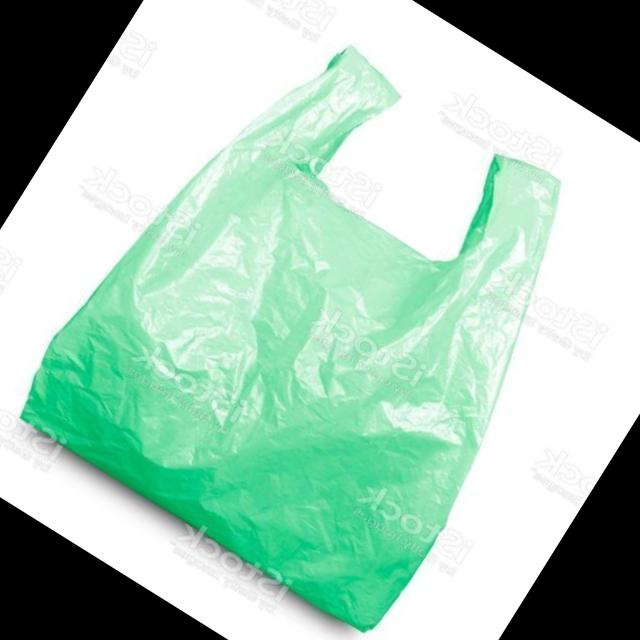KantongPlastik: (3, 0, 638, 640)
